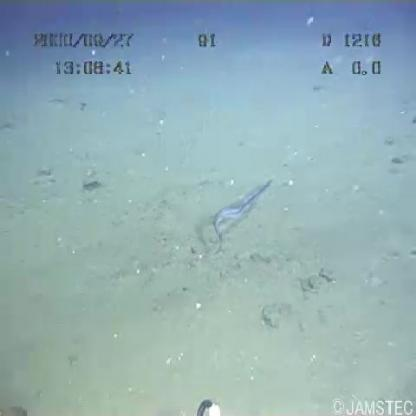Bio: (204, 175, 276, 250)
